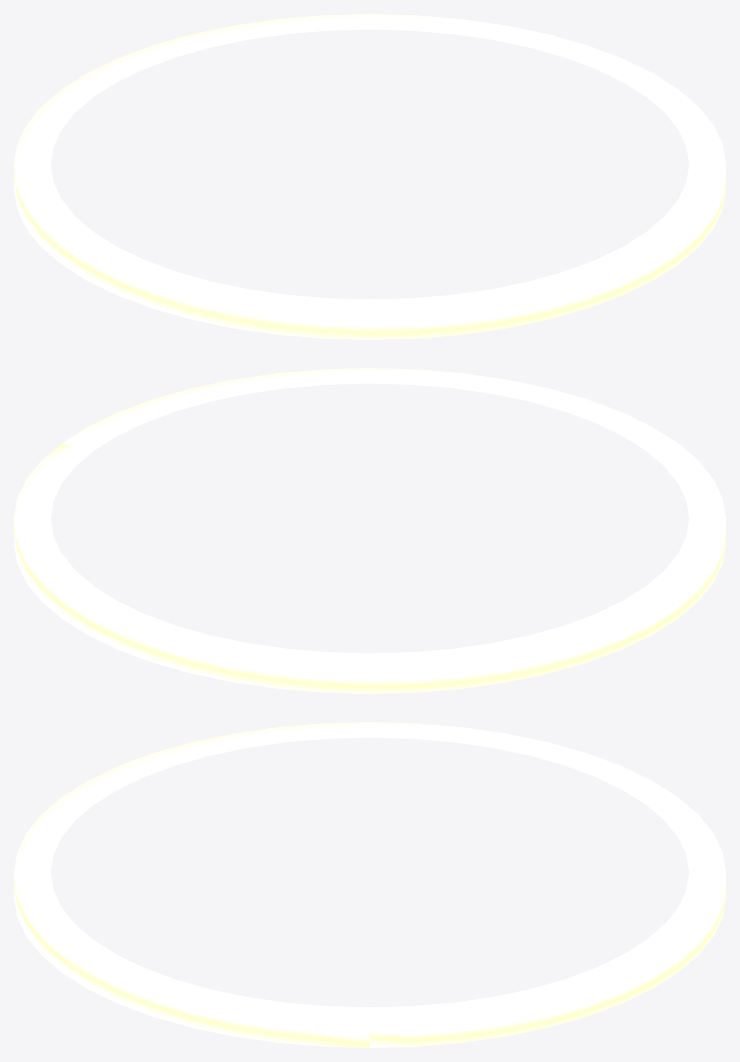
Rendered from ring_vote.glb.
The picture shows the model from 3 angles, top to bottom: view 1: azimuth 30°, elevation 25°; view 2: azimuth 150°, elevation 25°; view 3: azimuth 270°, elevation 25°; orthographic projection.
Parts seen in each view (by area): view 1: ring; view 2: ring; view 3: ring.
Part boxes in pixels (x1,y1,x2,y2): ring: (14, 14, 725, 339); ring: (14, 368, 725, 693); ring: (14, 722, 725, 1047).
Size of the model in its own units: 4.64 by 0.18 by 4.64.
